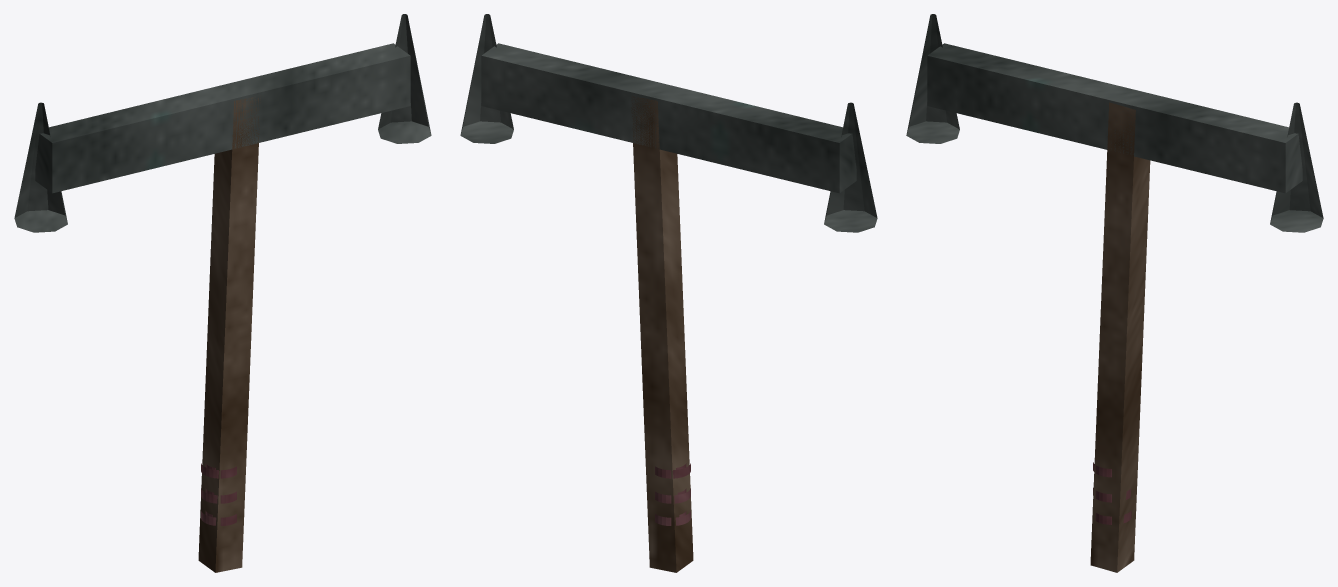
The model's file is 0867_pickaxe_17.glb.
The picture shows the model from 3 angles, left to right: view 1: azimuth 30°, elevation 25°; view 2: azimuth 150°, elevation 25°; view 3: azimuth 330°, elevation 25°; orthographic projection.
Visible parts, largest first — view 1: iron, wood, cloth; view 2: iron, wood, cloth; view 3: iron, wood, cloth.
Boxes of the visible parts, x1,y1,x2,y2 form: iron: (14,14,431,232); wood: (198,97,260,572); cloth: (201,463,236,525); iron: (460,14,877,232); wood: (631,96,693,572); cloth: (655,463,690,525); iron: (906,14,1323,232); wood: (1090,102,1150,572); cloth: (1093,462,1131,524).
Bounding box in the file's own units: 1.54 × 1.8 × 0.18.
Materials: 3 (3 with a texture image).
